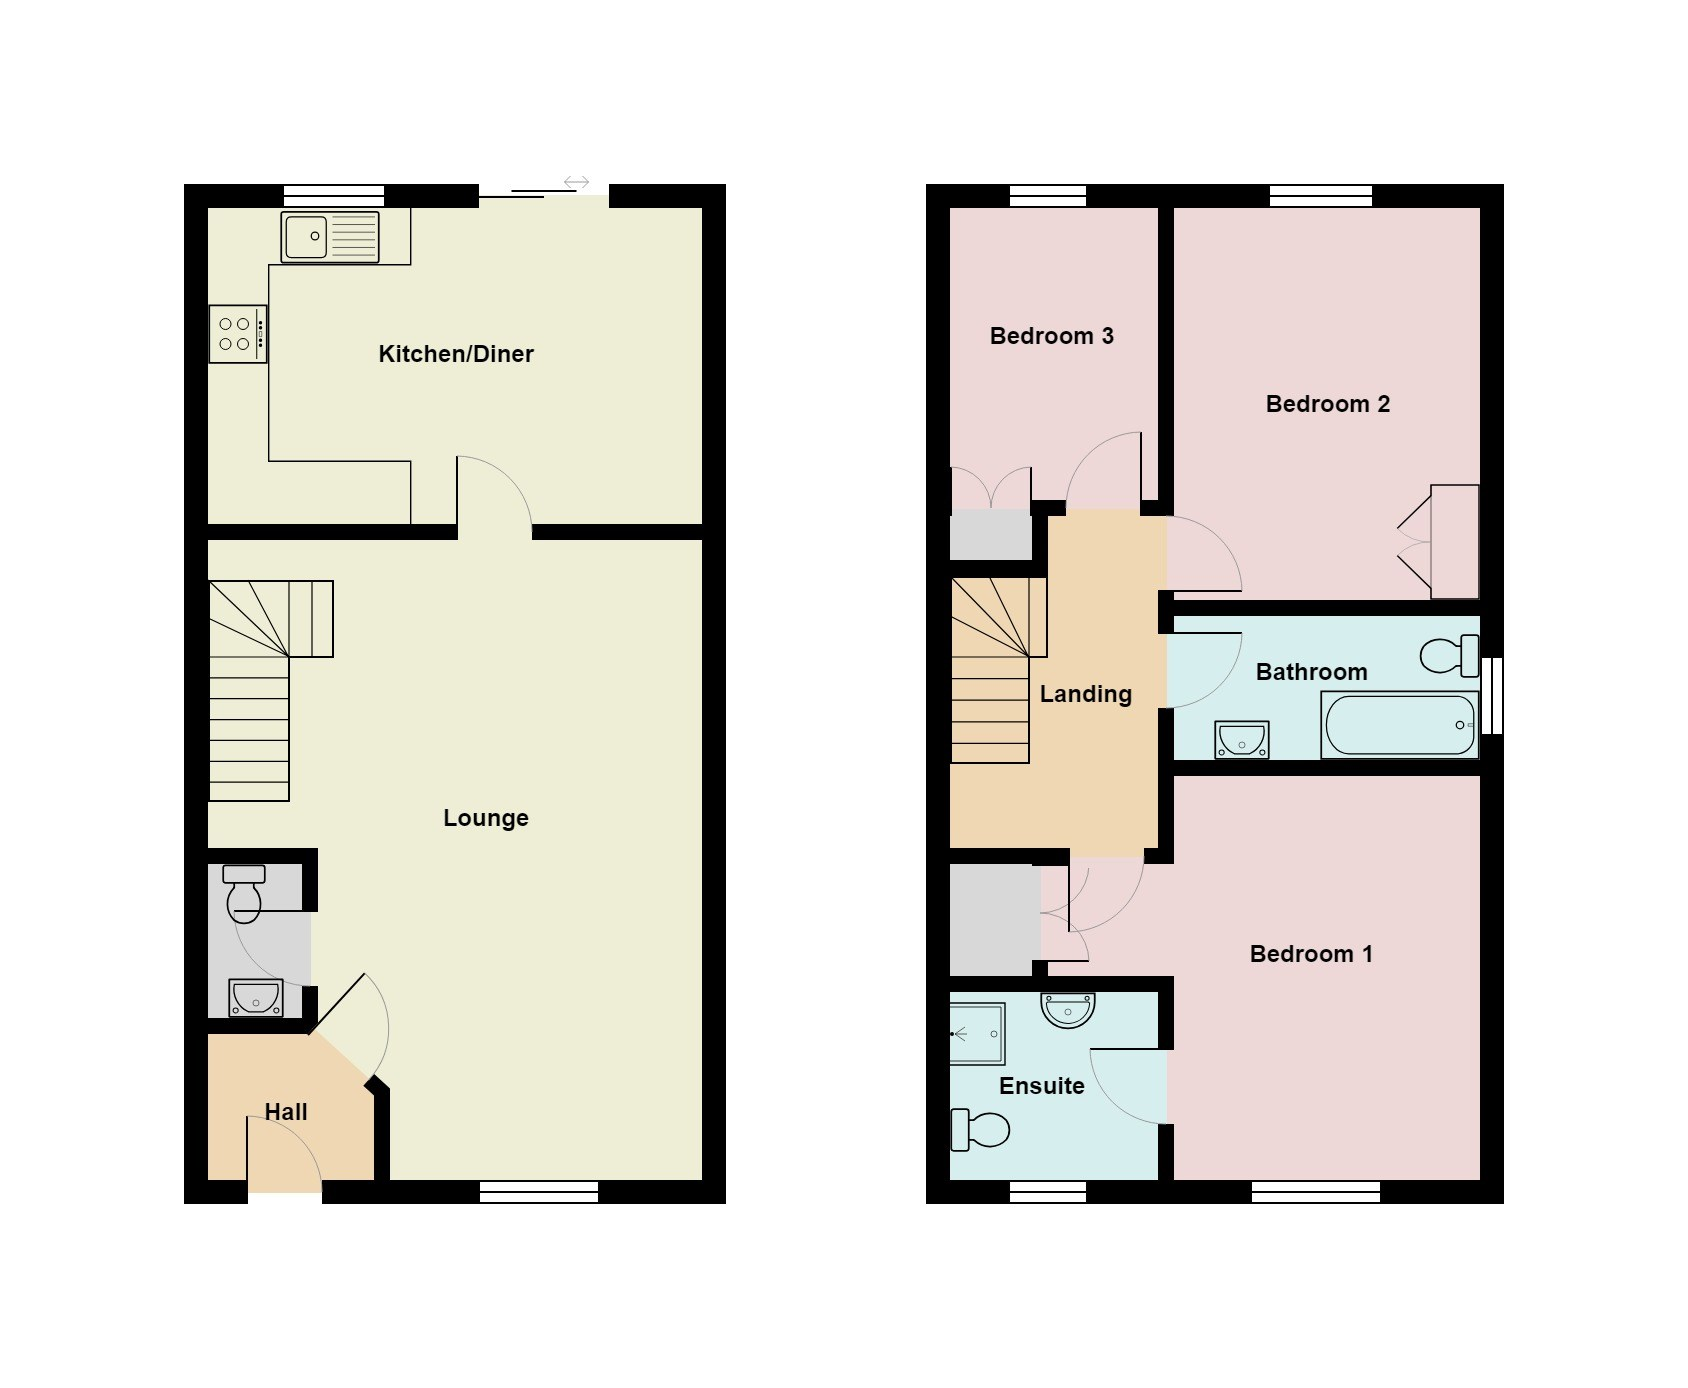window: (1249, 1178, 1382, 1204), (1267, 179, 1375, 210), (282, 182, 386, 212), (477, 1179, 580, 1209), (1478, 655, 1507, 737), (1007, 181, 1089, 210), (1007, 1179, 1089, 1206)
